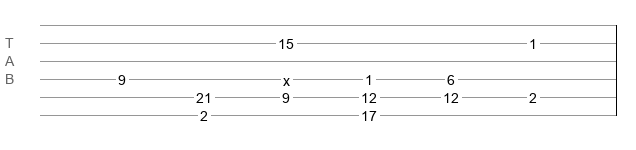1: (365, 72, 373, 82), (529, 36, 537, 46)
12: (361, 90, 377, 100), (443, 90, 459, 100)
15: (278, 36, 294, 46)
17: (361, 108, 377, 118)
2: (200, 108, 208, 118), (529, 90, 537, 100)
21: (196, 90, 212, 100)
6: (447, 72, 455, 82)
9: (118, 72, 126, 82), (282, 90, 290, 100)
x: (283, 73, 290, 81)
